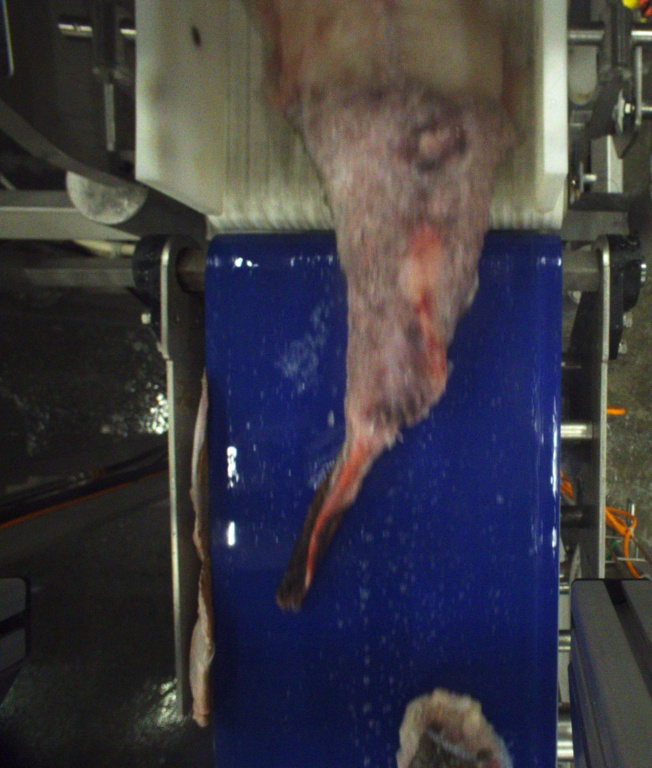ANF: (242, 0, 513, 610)
